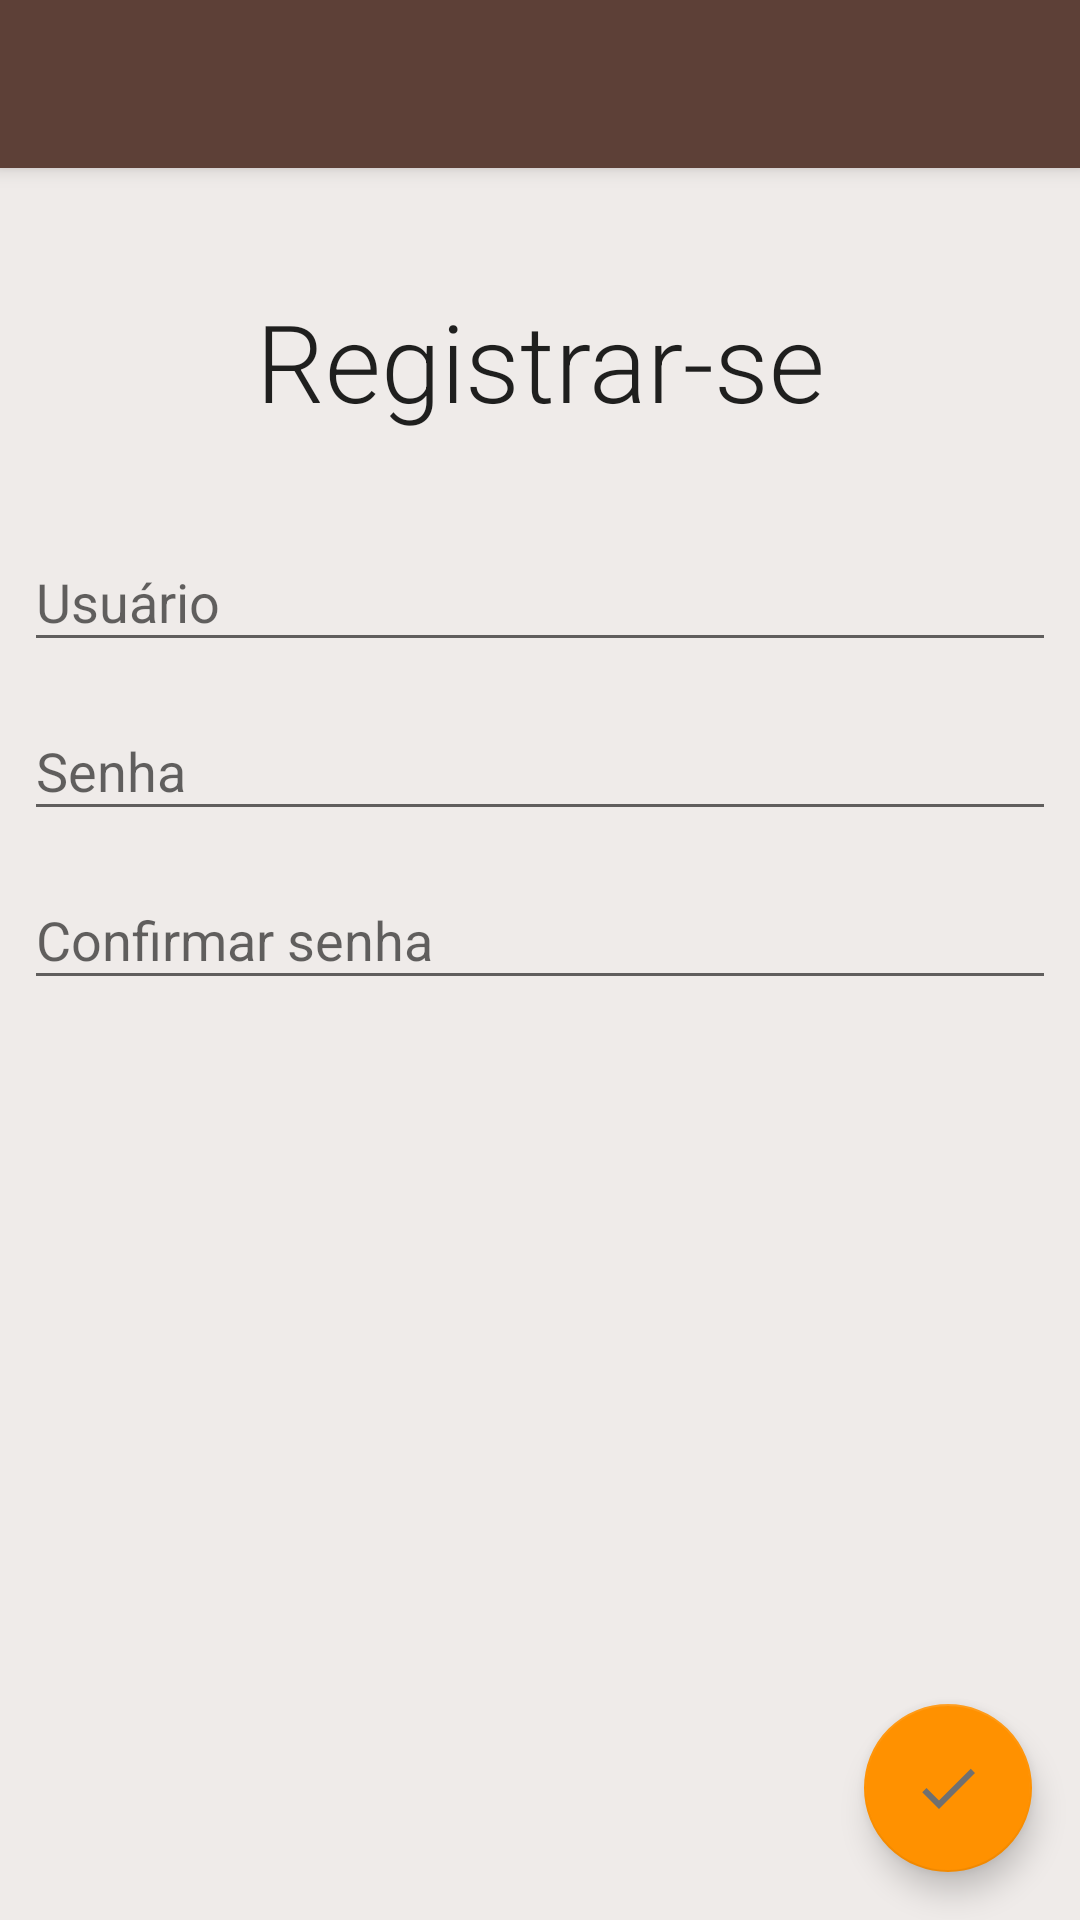

Icons on this 1080*1920 Android screen, each with its box as (x1,y1,x2,y2):
check: (864,1704,1032,1872)
